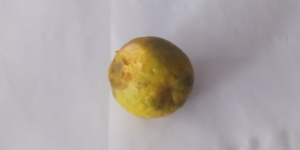BAD: (108, 35, 194, 120)
